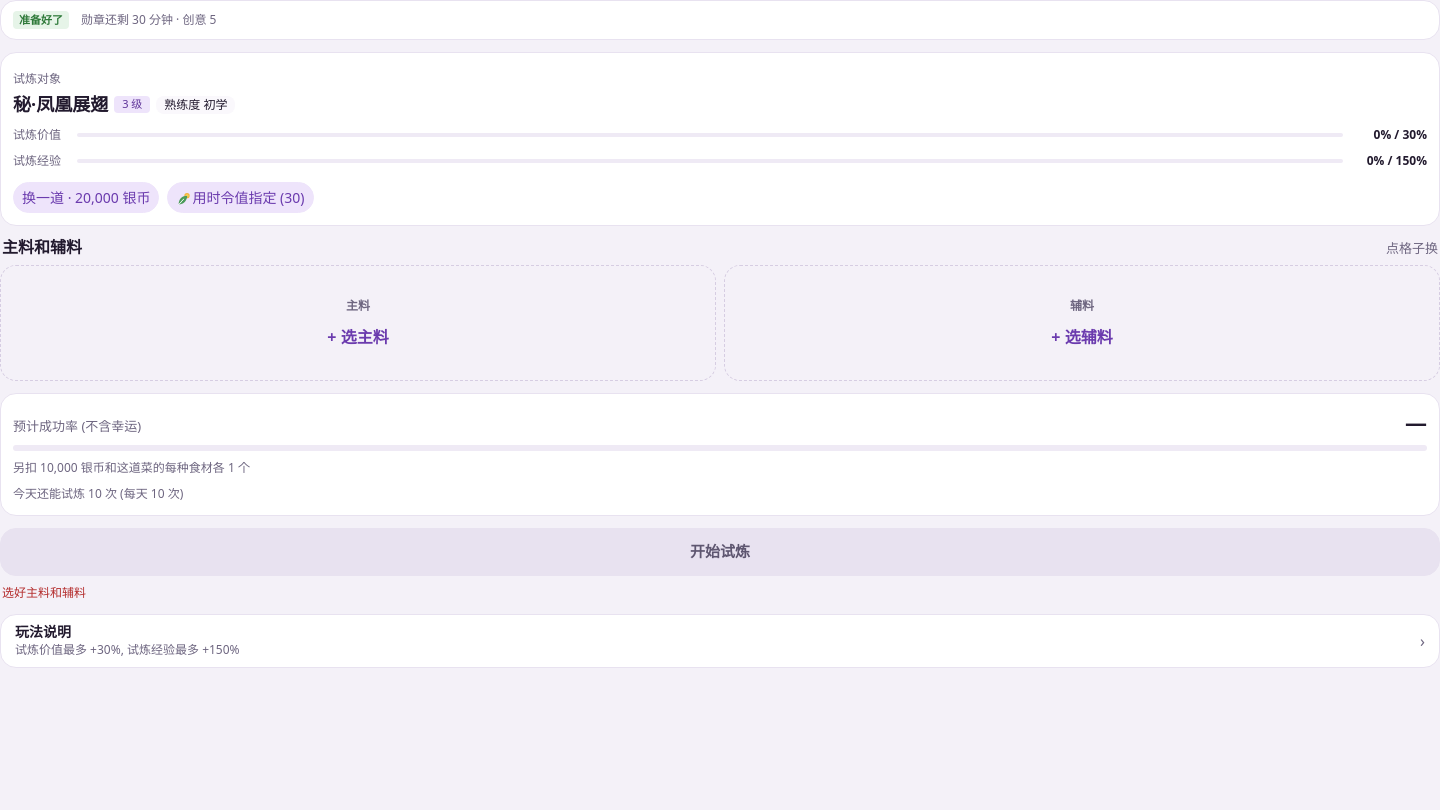
Test case: TrialPanel › 主辅选同一种要 2 个：只有 1 个时，另一个槽里这种灰掉（问题记录 487）
Click the button with test id "trial-slot-main": (358, 322) x1=0 y1=264 x2=716 y2=380
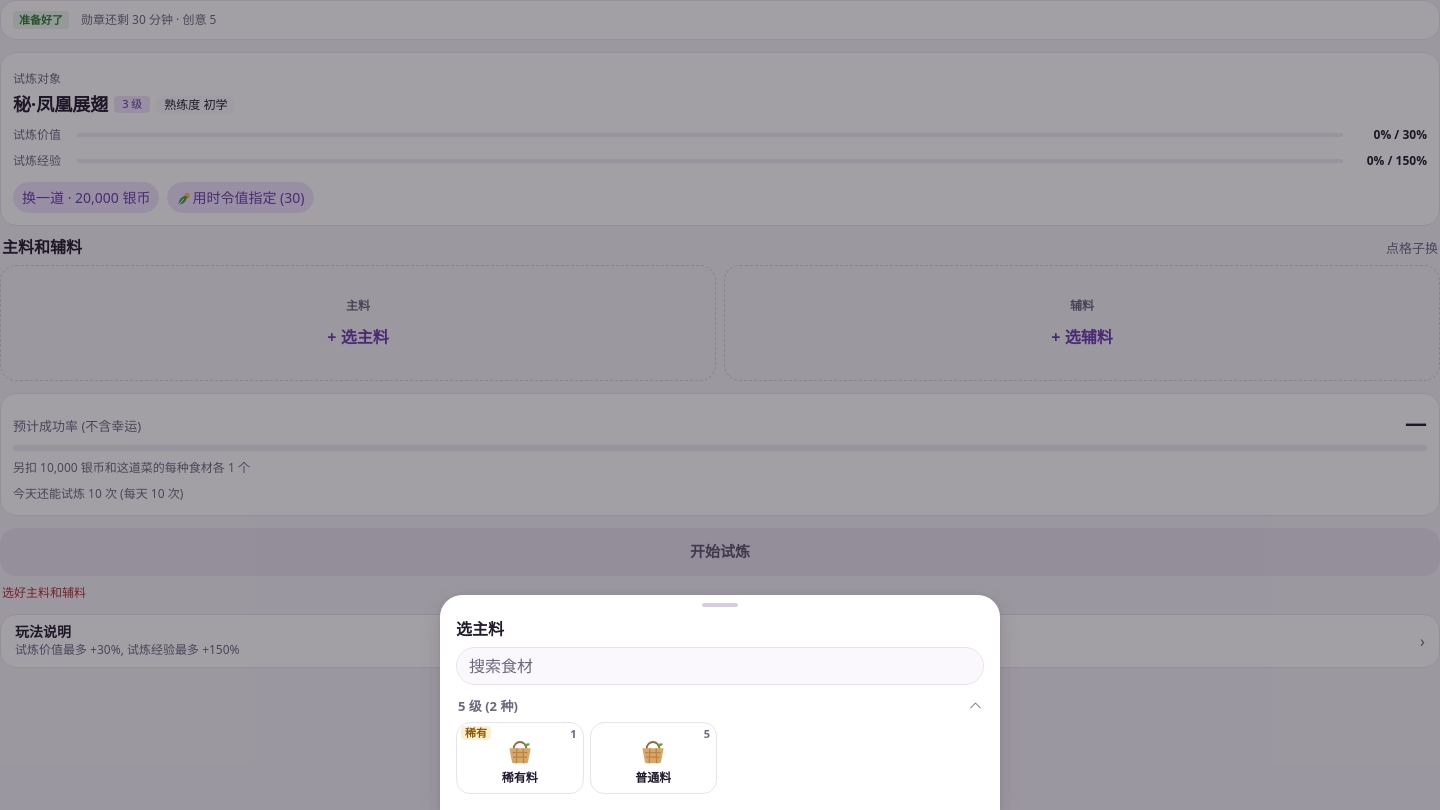
Click the button with test id "trial-food-150": (520, 758) x1=456 y1=722 x2=584 y2=794
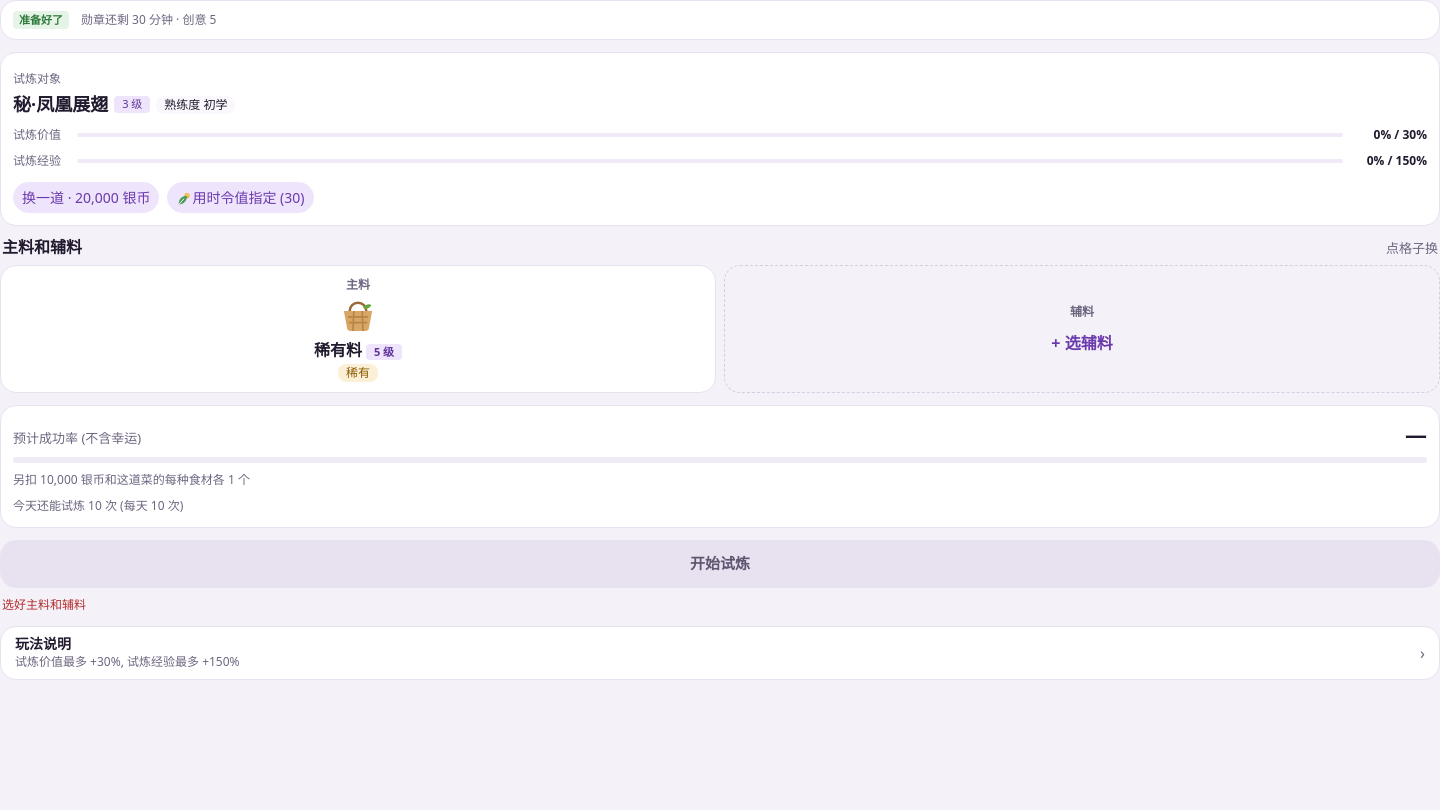
Click the button with test id "trial-slot-sub": (1082, 328) x1=724 y1=264 x2=1439 y2=392
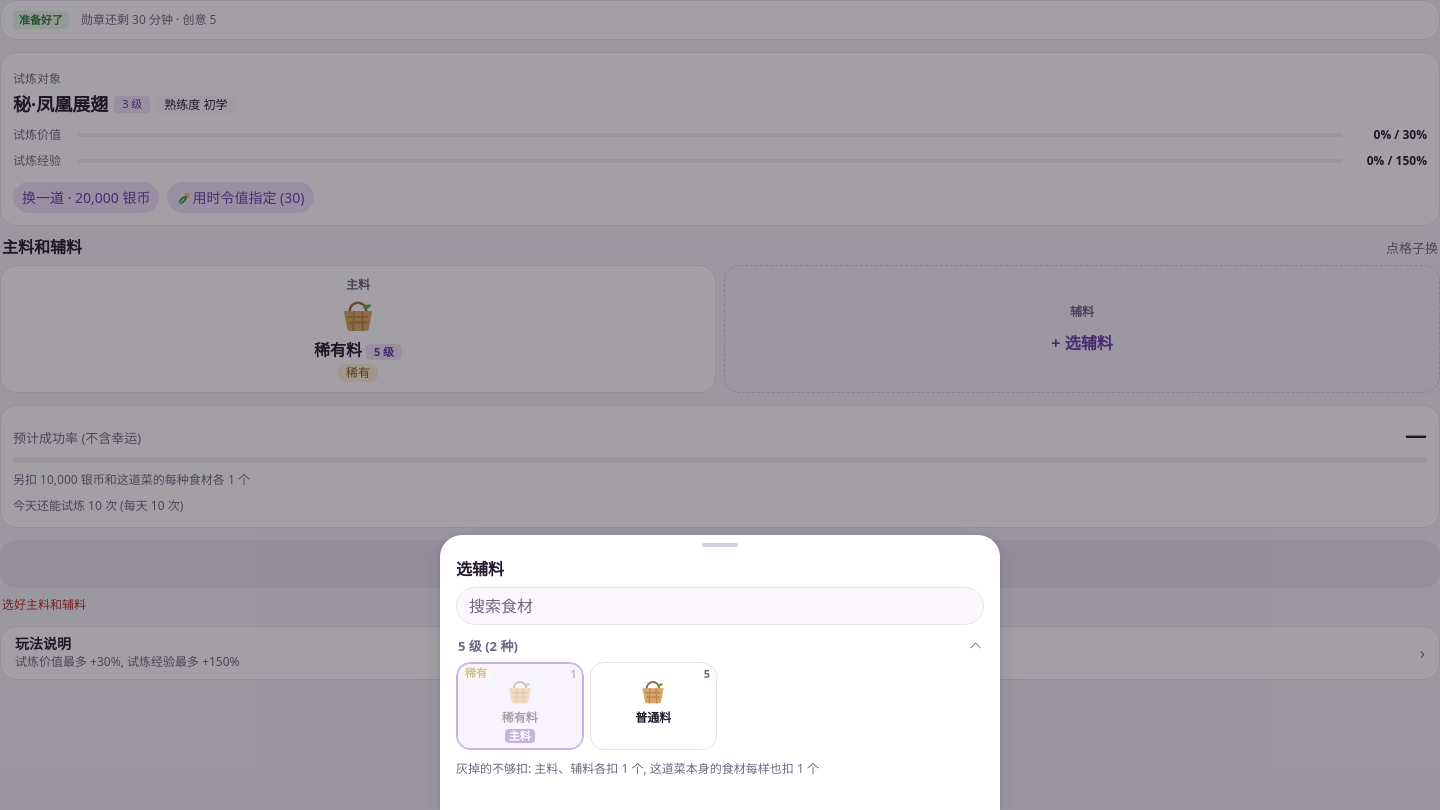
Now the button with test id "trial-food-150" is disabled, box x1=456 y1=662 x2=584 y2=750
Now the text with test id "trial-food-role" reads "主料", box x1=509 y1=728 x2=531 y2=743
Click the button with test id "trial-food-423": (653, 706) x1=590 y1=662 x2=717 y2=750
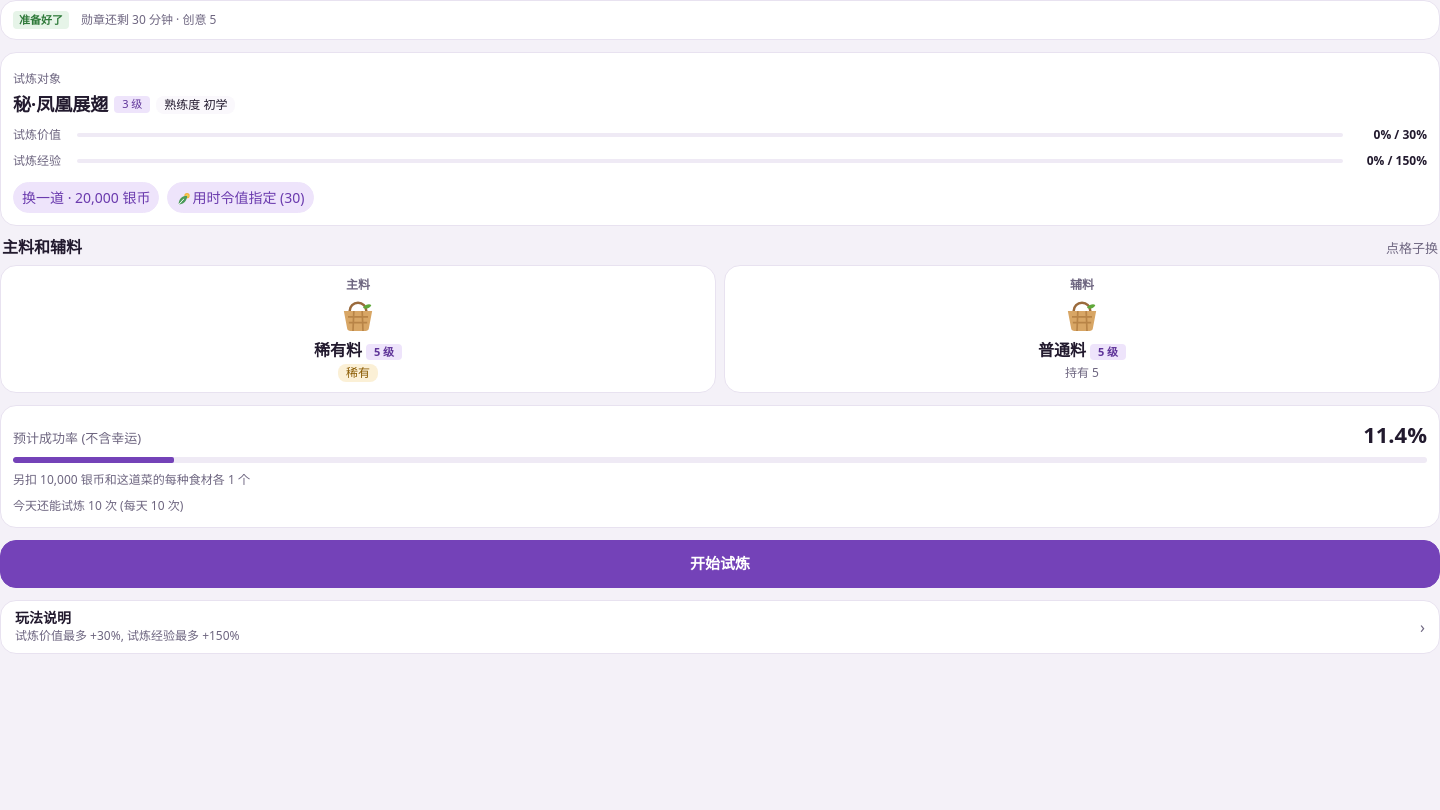
Click the button with test id "trial-slot-main": (358, 328) x1=0 y1=264 x2=716 y2=392
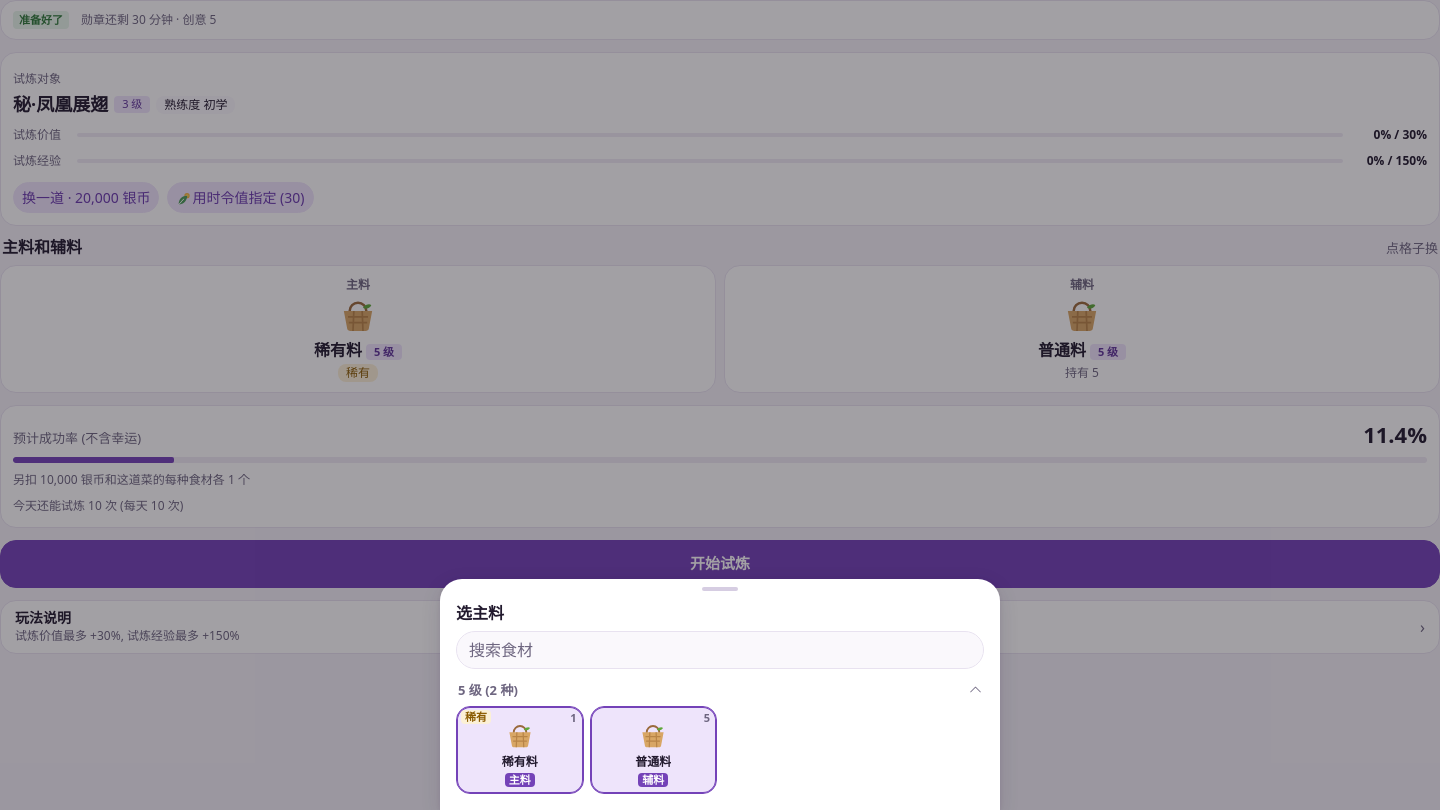
Now the button with test id "trial-food-150" is enabled, box x1=456 y1=706 x2=584 y2=794
